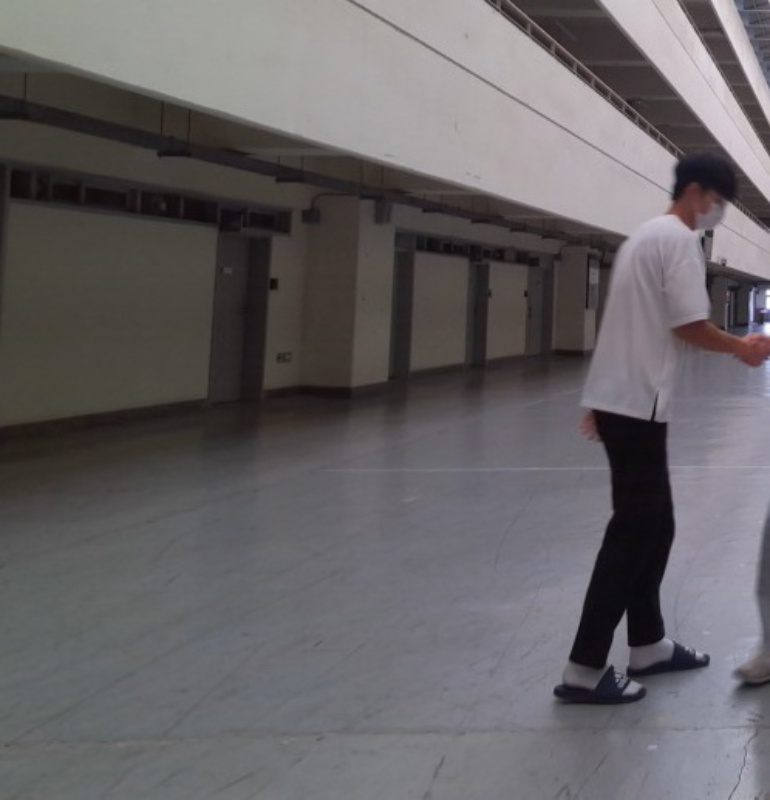person: (548, 150, 767, 709)
